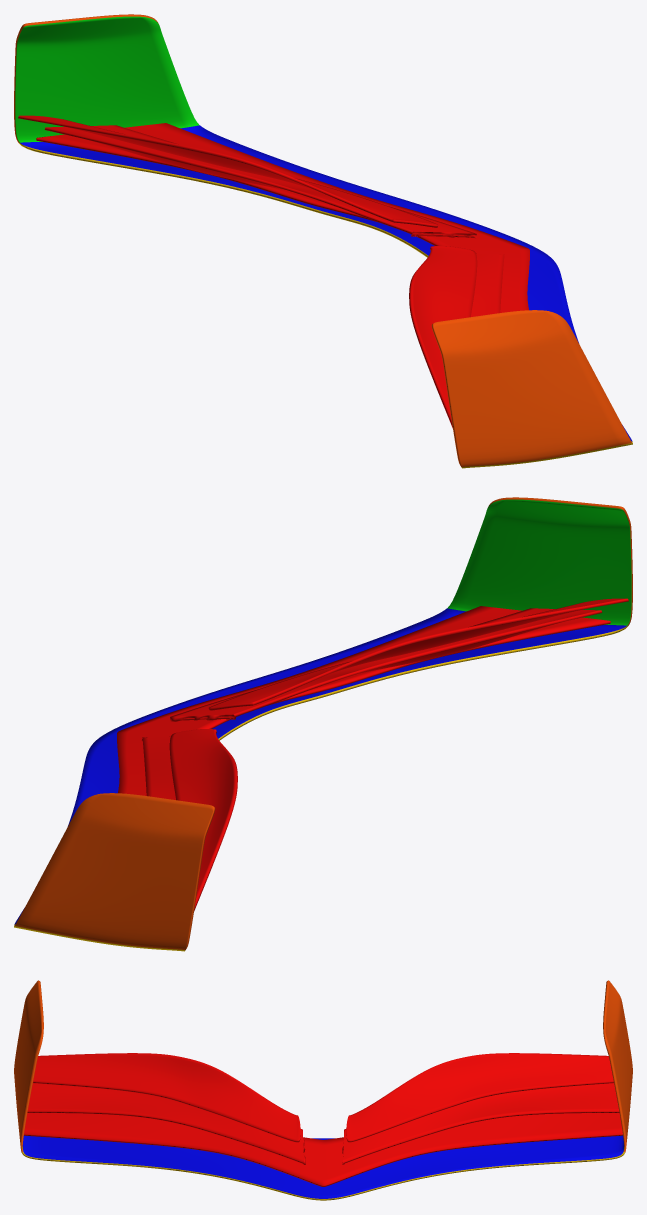
Rendered from fp04rb_front_wing.obj.
3 renders of one model, top to bottom at view 1: azimuth 30°, elevation 25°; view 2: azimuth 150°, elevation 25°; view 3: azimuth 270°, elevation 25°, orthographic. The views are drawn at different scales.
Visible parts, largest first — view 1: front_wing_mixer_Plane.062; view 2: front_wing_mixer_Plane.062; view 3: front_wing_mixer_Plane.062.
Part boxes in pixels (x1,y1,x2,y2): front_wing_mixer_Plane.062: [14, 14, 632, 468]; front_wing_mixer_Plane.062: [14, 497, 632, 951]; front_wing_mixer_Plane.062: [14, 980, 632, 1200].
Size of the model in its own units: 2.06 by 1 by 4.96.
